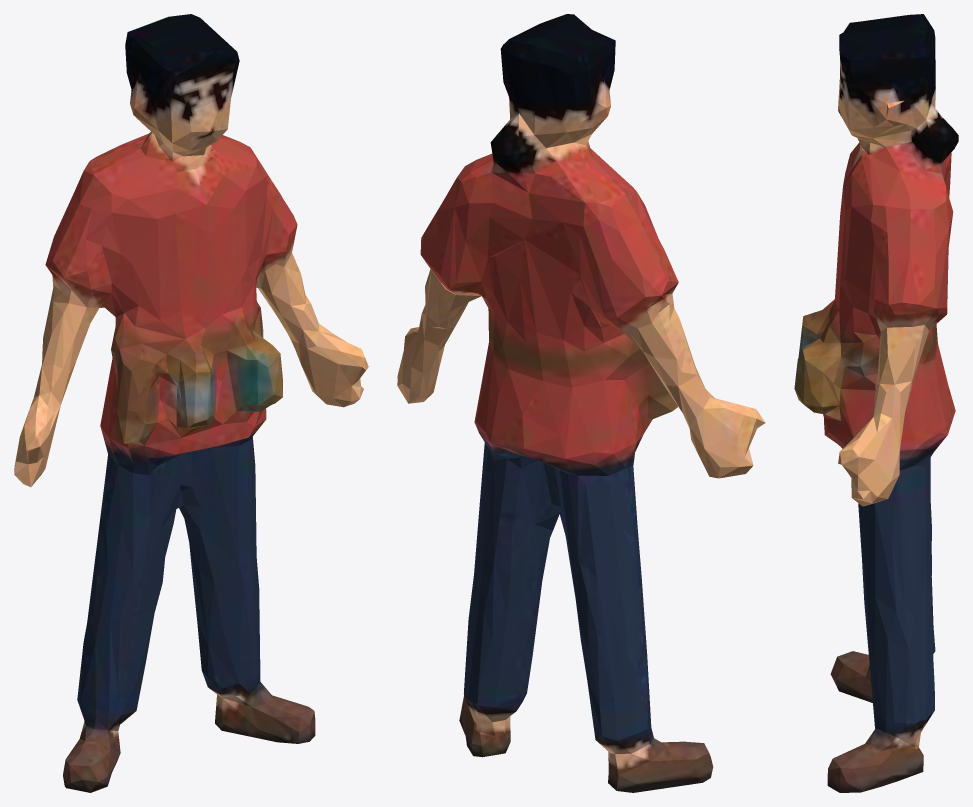
File: habitant-loin.glb
The picture shows the model from 3 angles, left to right: view 1: azimuth 30°, elevation 25°; view 2: azimuth 150°, elevation 25°; view 3: azimuth 270°, elevation 25°; orthographic projection. The views are drawn at different scales.
Parts seen in each view (by area): view 1: habitant; view 2: habitant; view 3: habitant.
Boxes of the visible parts, x1=… form: habitant: x1=14, y1=14, x2=368, y2=792; habitant: x1=397, y1=14, x2=765, y2=792; habitant: x1=794, y1=14, x2=958, y2=792.
Size of the model in its own units: 0.5135 by 1.01 by 0.209.
1 material, 1 textured.
